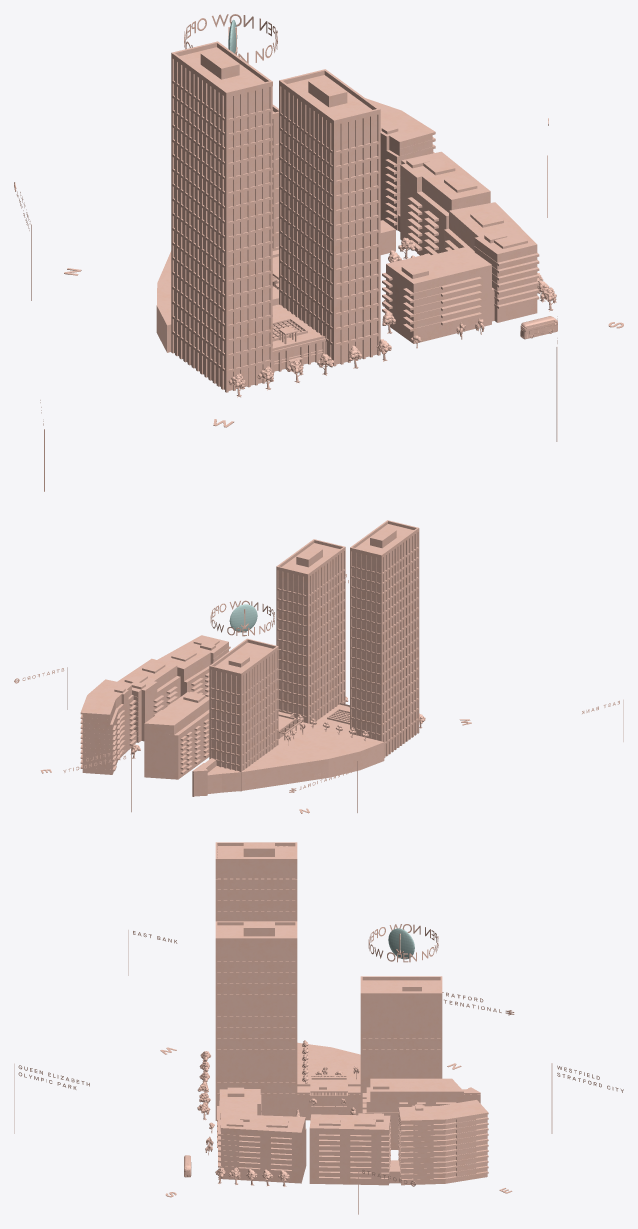
File: CMS17.gltf
3 views of the same model, one above another, from view 1: azimuth 30°, elevation 25°; view 2: azimuth 150°, elevation 25°; view 3: azimuth 270°, elevation 25° (orthographic). The views are drawn at different scales.
Visible parts, largest first — view 1: Xavier, Bussell, Hows, Sandhu, Bulk, Harrison, Open, Bus; view 2: Xavier, Bussell, Harrison, Bulk, Sandhu, Aarons, Hows, Arrow, Open; view 3: Bussell, Sandhu, Harrison, Hows, Xavier, Bulk, Aarons, Open, Arrow.
Part boxes in pixels (left/top/right/bottom): Xavier: left=171, top=41, right=272, bottom=392; Bussell: left=279, top=69, right=380, bottom=366; Hows: left=382, top=202, right=539, bottom=343; Sandhu: left=365, top=98, right=490, bottom=255; Bulk: left=31, top=155, right=623, bottom=491; Harrison: left=272, top=104, right=278, bottom=250; Open: left=184, top=14, right=277, bottom=63; Bus: left=520, top=316, right=557, bottom=339; Xavier: left=350, top=520, right=419, bottom=757; Bussell: left=276, top=539, right=345, bottom=724; Harrison: left=192, top=638, right=278, bottom=796; Bulk: left=40, top=667, right=623, bottom=813; Sandhu: left=80, top=658, right=180, bottom=774; Aarons: left=144, top=691, right=209, bottom=779; Hows: left=157, top=635, right=230, bottom=696; Arrow: left=229, top=604, right=257, bottom=632; Open: left=210, top=600, right=274, bottom=636; Bussell: left=215, top=921, right=298, bottom=1120; Sandhu: left=309, top=1100, right=488, bottom=1185; Harrison: left=360, top=976, right=480, bottom=1113; Hows: left=217, top=1087, right=306, bottom=1183; Xavier: left=215, top=842, right=297, bottom=921; Bulk: left=14, top=930, right=552, bottom=1214; Aarons: left=362, top=1078, right=463, bottom=1149; Open: left=368, top=924, right=438, bottom=962; Arrow: left=388, top=928, right=414, bottom=959.
Size of the model in its own units: 308 by 129 by 313.
3 materials, 2 textured.
